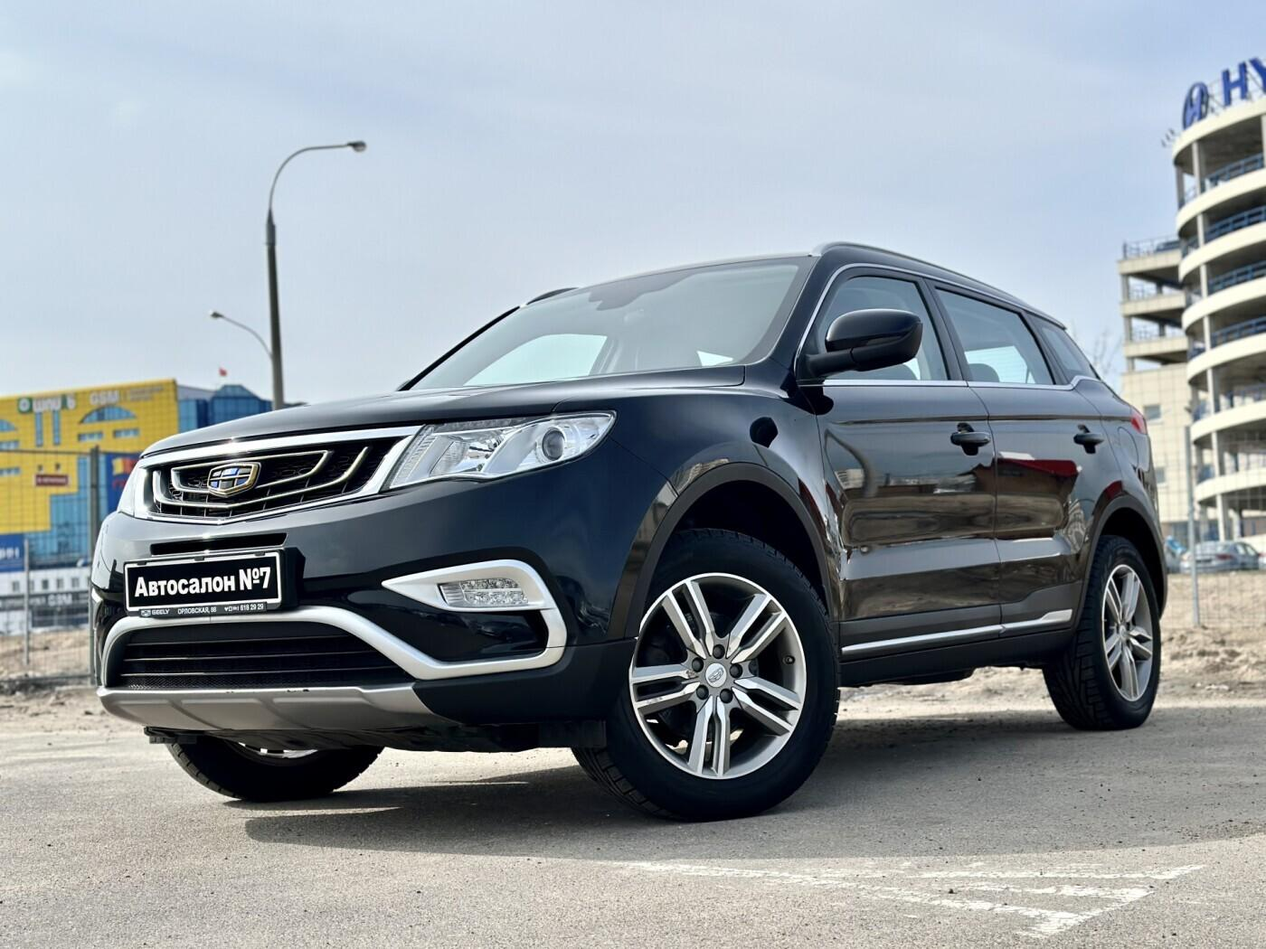Atlas_2016-2023: (74, 238, 1174, 820)
